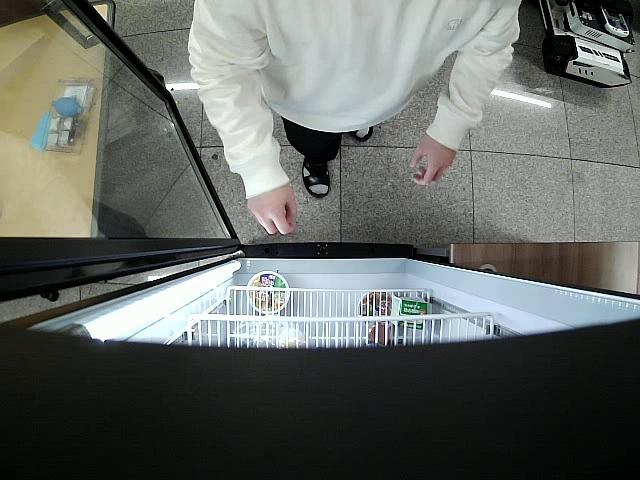00_hand: (247, 185, 299, 235), (410, 135, 457, 189)
